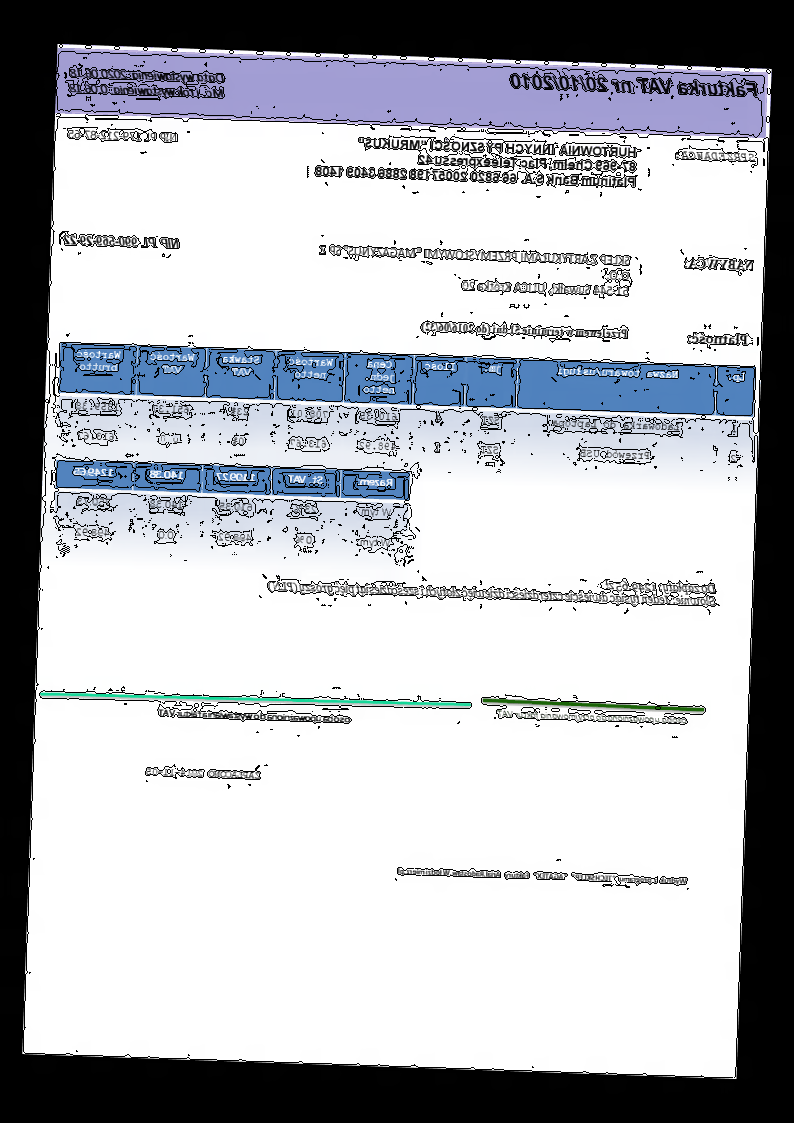Table: (56, 340, 758, 481), (52, 457, 412, 563)
TextBox: (265, 565, 720, 611), (312, 131, 639, 192), (318, 242, 631, 299), (508, 71, 761, 101), (393, 864, 690, 887), (63, 64, 229, 100), (420, 319, 630, 341), (495, 707, 690, 728), (156, 706, 355, 726), (63, 231, 181, 252), (68, 125, 182, 146), (145, 765, 263, 781), (673, 147, 760, 164), (683, 255, 756, 273), (686, 329, 749, 347)
